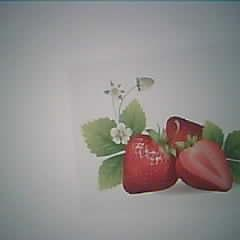straw-ripe: (123, 134, 177, 193)
